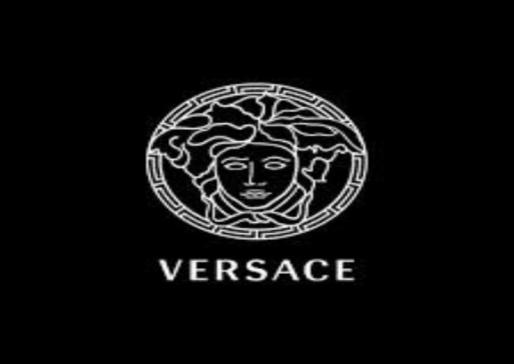VERSACE: (107, 57, 374, 305)
